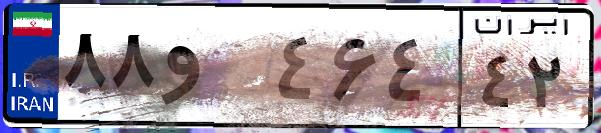2: (525, 38, 570, 115)
4: (270, 28, 330, 110), (385, 28, 445, 110), (475, 38, 525, 113)
6: (330, 28, 385, 110)
8: (57, 26, 110, 100), (110, 28, 158, 98)
و: (158, 20, 270, 120)
